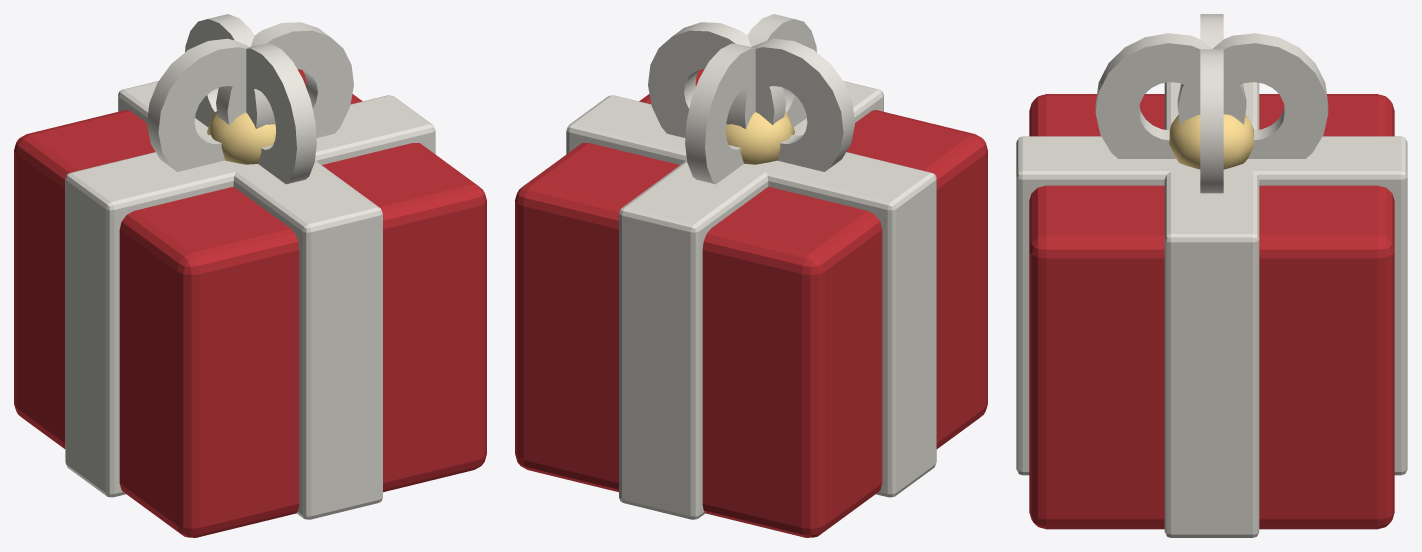
The model's file is top_gift.fbx.
The picture shows the model from 3 angles, left to right: view 1: azimuth 30°, elevation 25°; view 2: azimuth 150°, elevation 25°; view 3: azimuth 270°, elevation 25°; orthographic projection. The views are drawn at different scales.
Parts seen in each view (by area): view 1: red_1, cream_1, gold_1; view 2: red_1, cream_1, gold_1; view 3: red_1, cream_1, gold_1.
Part boxes in pixels (left/top/right/bottom): red_1: left=14, top=69, right=486, bottom=537; cream_1: left=65, top=14, right=435, bottom=519; gold_1: left=207, top=111, right=275, bottom=164; red_1: left=515, top=69, right=987, bottom=537; cream_1: left=566, top=14, right=936, bottom=519; gold_1: left=726, top=110, right=794, bottom=164; red_1: left=1029, top=94, right=1394, bottom=529; cream_1: left=1016, top=14, right=1407, bottom=537; gold_1: left=1169, top=114, right=1254, bottom=169.
Bounding box in the file's own units: 0.0336 × 0.0398 × 0.0336.
